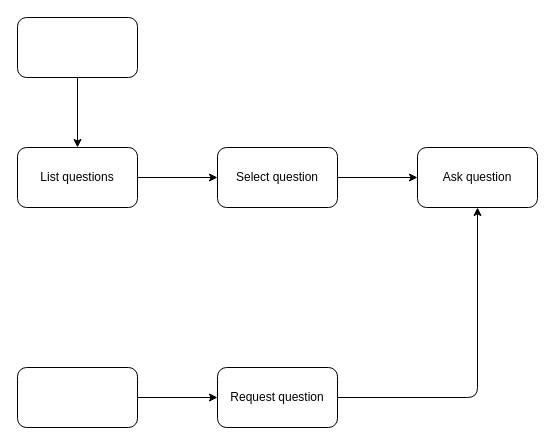
This 555x445 diagram has some shape labels left out. The centre of each missing label's shape, as x and y in pixels:
Generate questions: (77,47)
View draft stories: (77,397)
